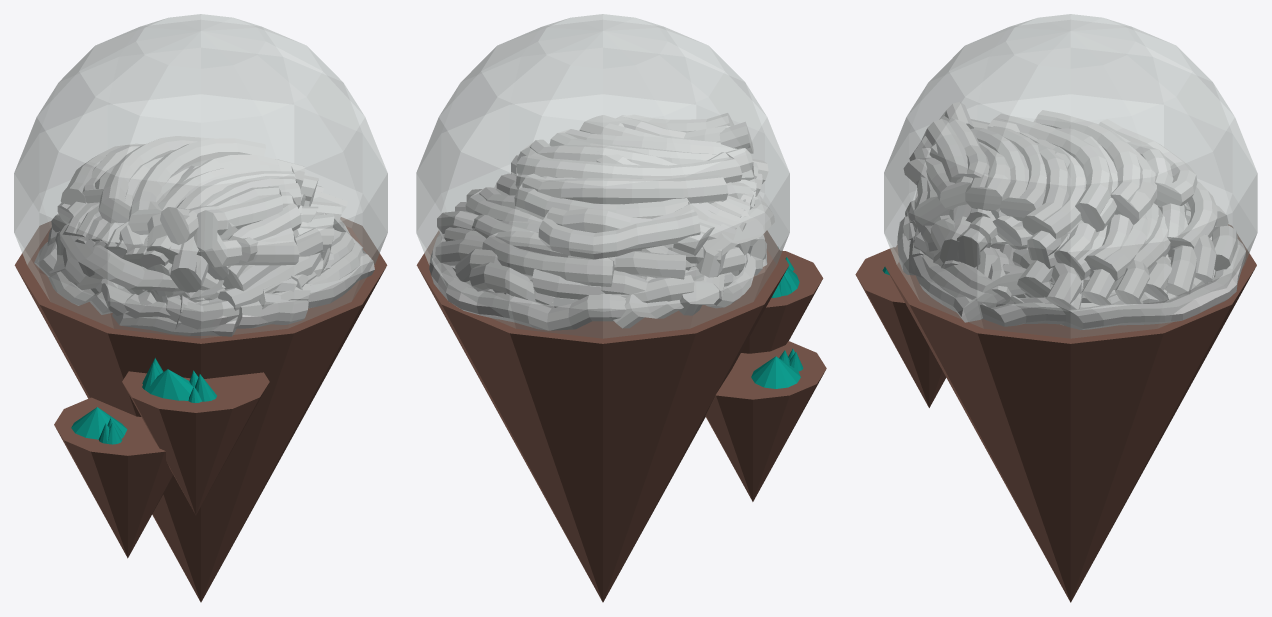
File: water.obj
3 renders of one model, left to right at view 1: azimuth 30°, elevation 25°; view 2: azimuth 150°, elevation 25°; view 3: azimuth 270°, elevation 25°, orthographic.
Parts seen in each view (by area): view 1: group53868588, group534145365, group1098214268, group1408845982, group424452771, group1456899601, group323553863, group91342506, group1207450469, group1797447714, group2057977599, group1532914641 (+3 smaller); view 2: group53868588, group534145365, group1098214268, group1456899601, group424452771, group1207450469, group1797447714, group323553863, group1408845982, group1532914641, group91342506, group1273385230; view 3: group53868588, group534145365, group1098214268, group1207450469, group1456899601, group1797447714, group1408845982, group91342506, group777982866.
Part boxes in pixels (x1,y1,x2,y2): group53868588: [14, 14, 387, 338]; group534145365: [14, 217, 387, 602]; group1098214268: [61, 136, 304, 267]; group1408845982: [122, 371, 269, 515]; group424452771: [54, 397, 173, 558]; group1456899601: [51, 175, 334, 302]; group323553863: [34, 241, 237, 336]; group91342506: [62, 161, 322, 310]; group1207450469: [47, 173, 374, 308]; group1797447714: [166, 219, 363, 329]; group2057977599: [140, 235, 230, 292]; group1532914641: [57, 201, 148, 266]; group53868588: [416, 14, 789, 338]; group534145365: [416, 230, 789, 602]; group1098214268: [514, 113, 754, 259]; group1456899601: [465, 154, 774, 286]; group424452771: [705, 341, 826, 501]; group1207450469: [435, 189, 694, 307]; group1797447714: [429, 233, 625, 330]; group323553863: [600, 234, 767, 328]; group1408845982: [741, 250, 823, 353]; group1532914641: [673, 179, 756, 255]; group91342506: [596, 151, 753, 275]; group1273385230: [751, 356, 800, 388]; group53868588: [884, 14, 1257, 338]; group534145365: [884, 224, 1256, 602]; group1098214268: [903, 102, 1197, 238]; group1207450469: [911, 205, 1237, 322]; group1456899601: [933, 181, 1217, 281]; group1797447714: [897, 210, 1245, 329]; group1408845982: [855, 247, 946, 407]; group91342506: [906, 152, 1083, 253]; group777982866: [901, 220, 1012, 306].
Size of the model in its own units: 1.16 by 1.88 by 1.2.
